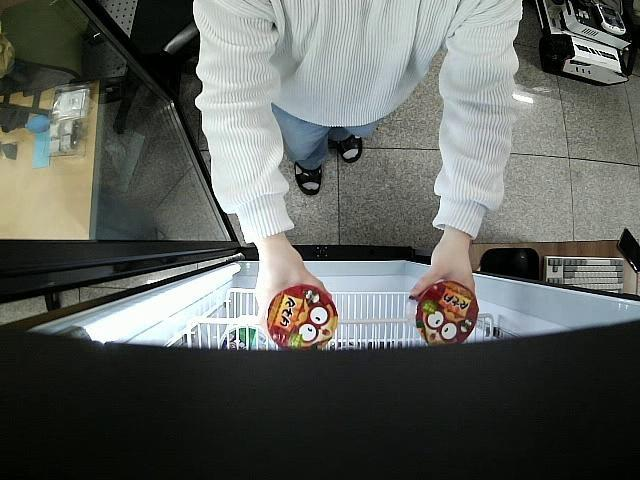06_nuguri_S: (265, 284, 338, 350), (408, 280, 478, 344)
